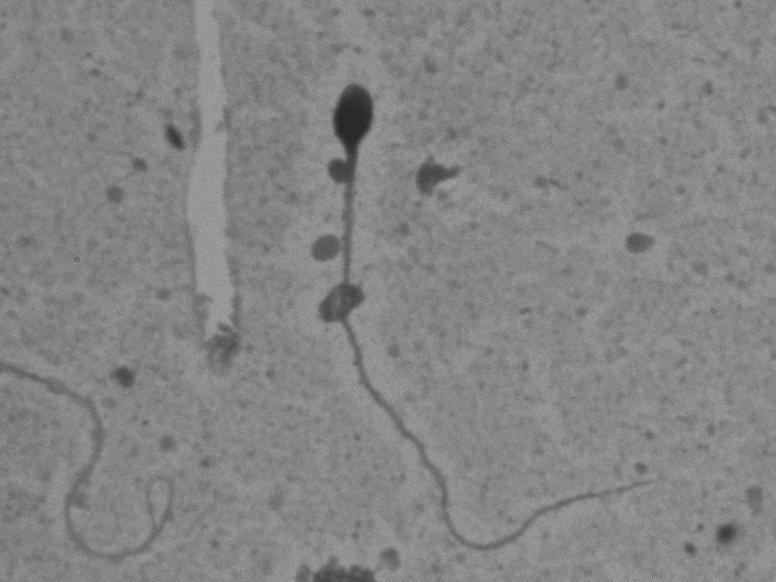Abnormal: (286, 74, 657, 552)
